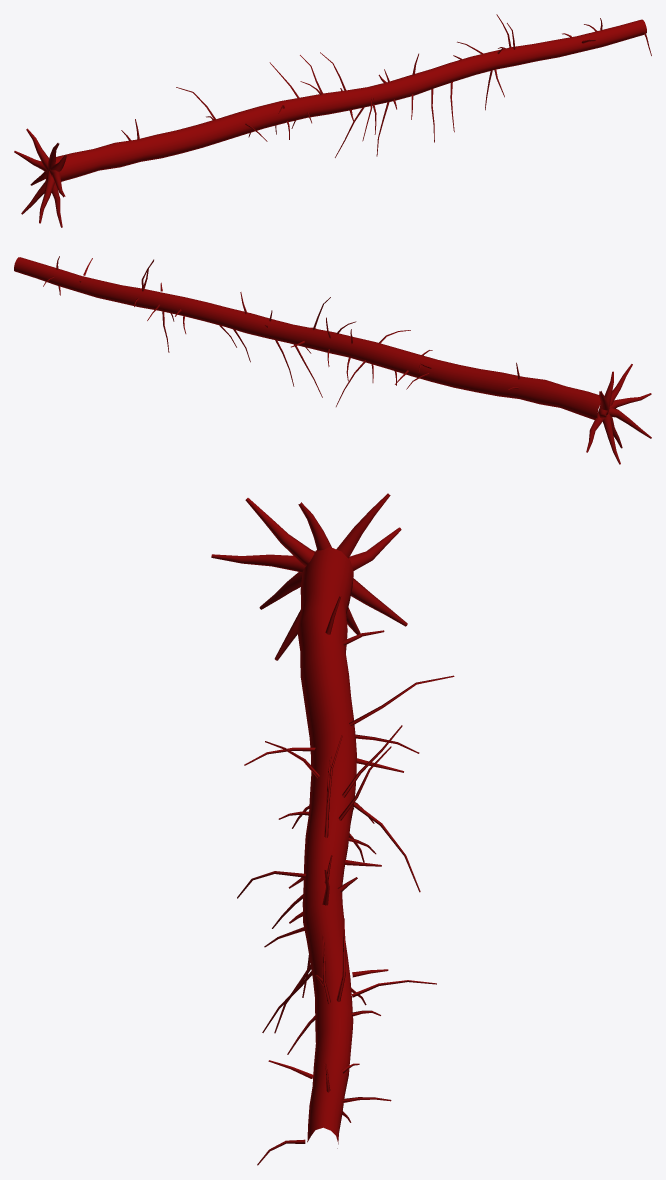
File: fallen_spruce.glb
The picture shows the model from 3 angles, top to bottom: view 1: azimuth 30°, elevation 25°; view 2: azimuth 150°, elevation 25°; view 3: azimuth 270°, elevation 25°; orthographic projection. The views are drawn at different scales.
Parts seen in each view (by area): view 1: LOD0; view 2: LOD0; view 3: LOD0.
Boxes of the visible parts, box(x1,y1,x2,y2) form: LOD0: box(14, 14, 651, 227); LOD0: box(14, 256, 651, 464); LOD0: box(211, 493, 454, 1165).
Size of what is drawn, in the model's own units: 14.74 by 2.47 by 2.51.
